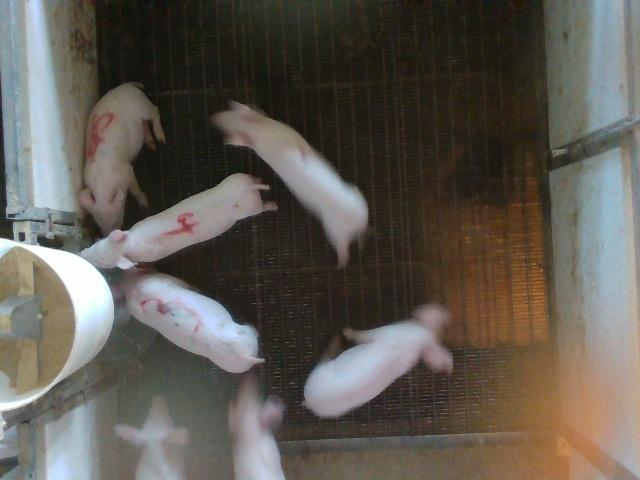pig-2: (211, 101, 368, 266)
pig-3: (111, 264, 264, 372)
pig-4: (80, 175, 275, 268)
pig-5: (79, 82, 165, 234)
